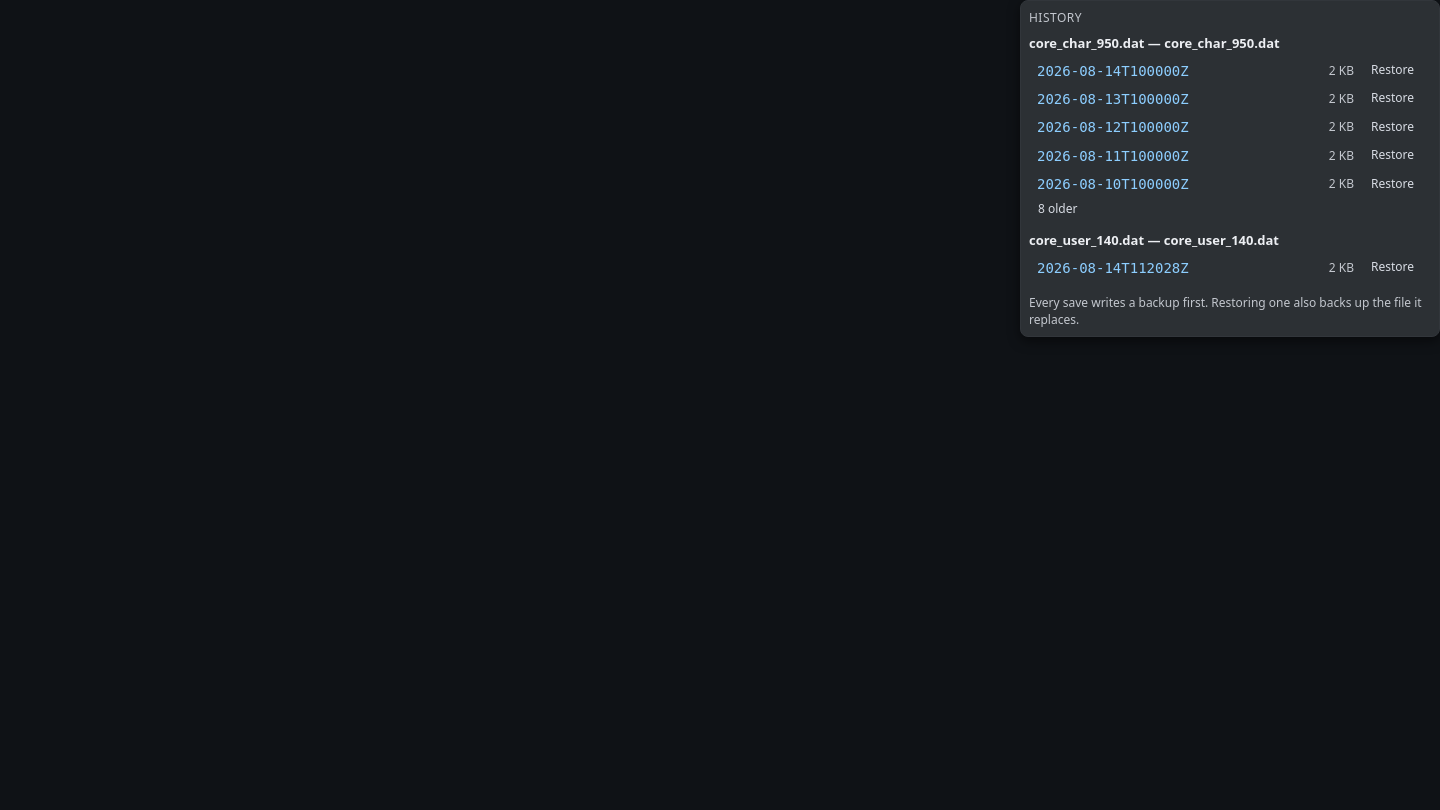
Test case: a file with many backups shows only its most recent, so both groups fit
Check: the number of buttons "Restore" is 6, box [1362, 60, 1423, 80]; [1362, 88, 1423, 109]; [1362, 117, 1423, 137]; [1362, 145, 1423, 166]; [1362, 174, 1423, 194]; [1362, 257, 1423, 278]
Check: the text "2026-08-14T112028Z" is shown, box [1037, 260, 1189, 276]
Click the button "8 older": (1058, 209) [1029, 199, 1086, 219]
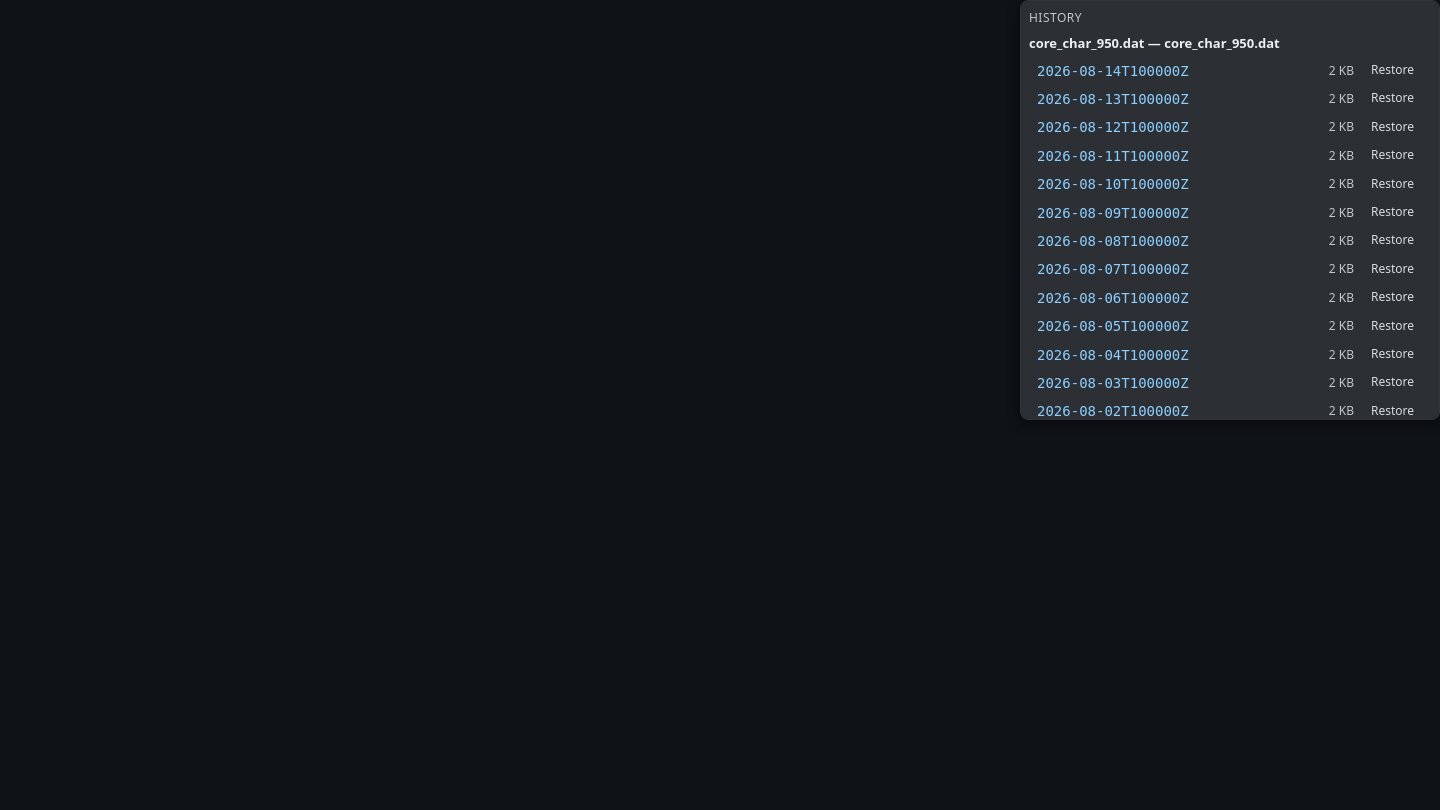
Check: the number of buttons "Restore" is 14
